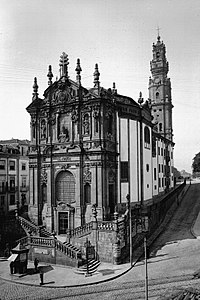clerigos: (147, 26, 174, 142)
